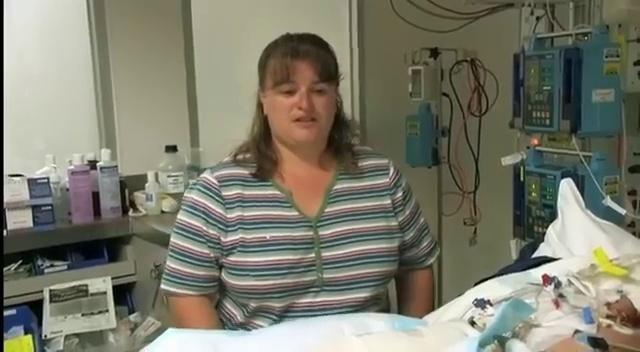others: (158, 30, 441, 332)
patient: (128, 239, 640, 352)
